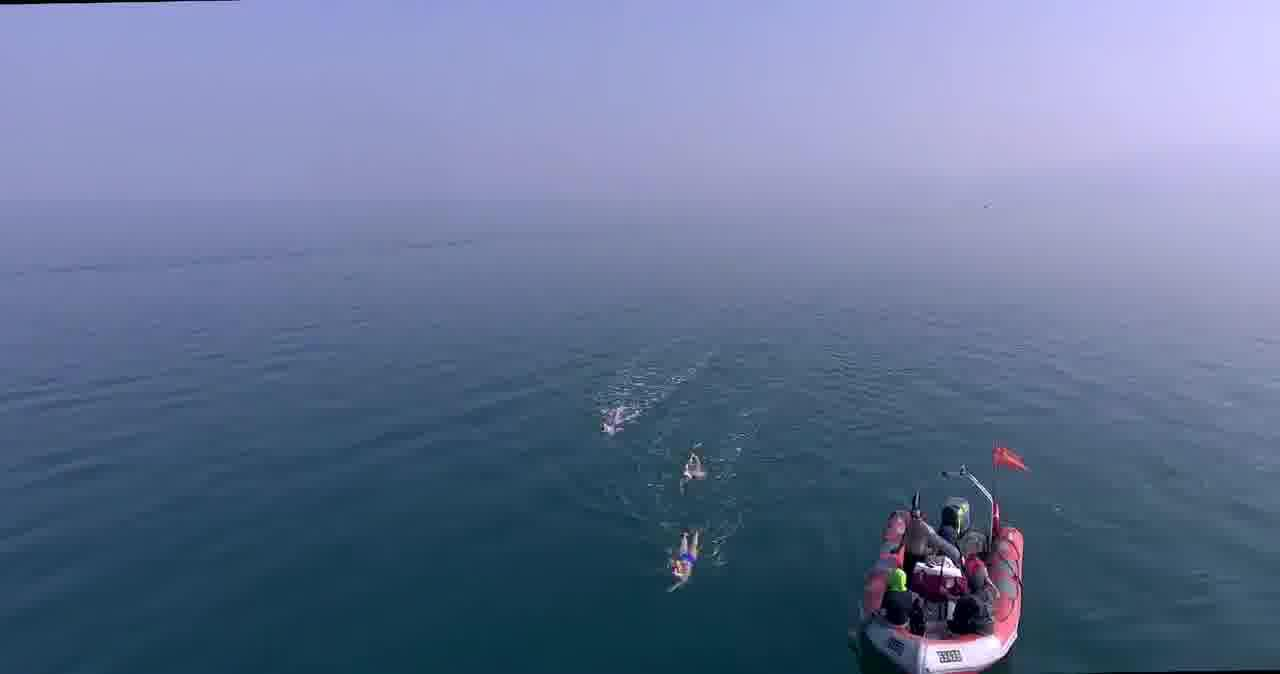human: (661, 532, 703, 594), (674, 450, 701, 495)
